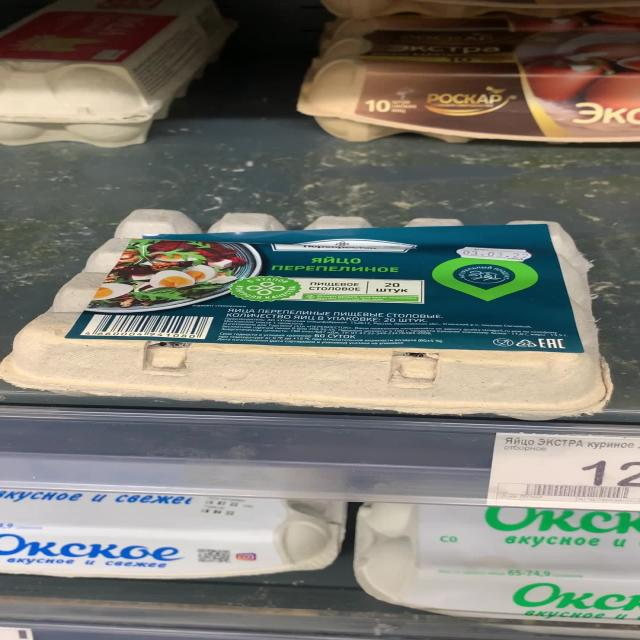egg box: (44, 202, 614, 398), (303, 23, 632, 137), (6, 486, 326, 574), (17, 4, 177, 140)
